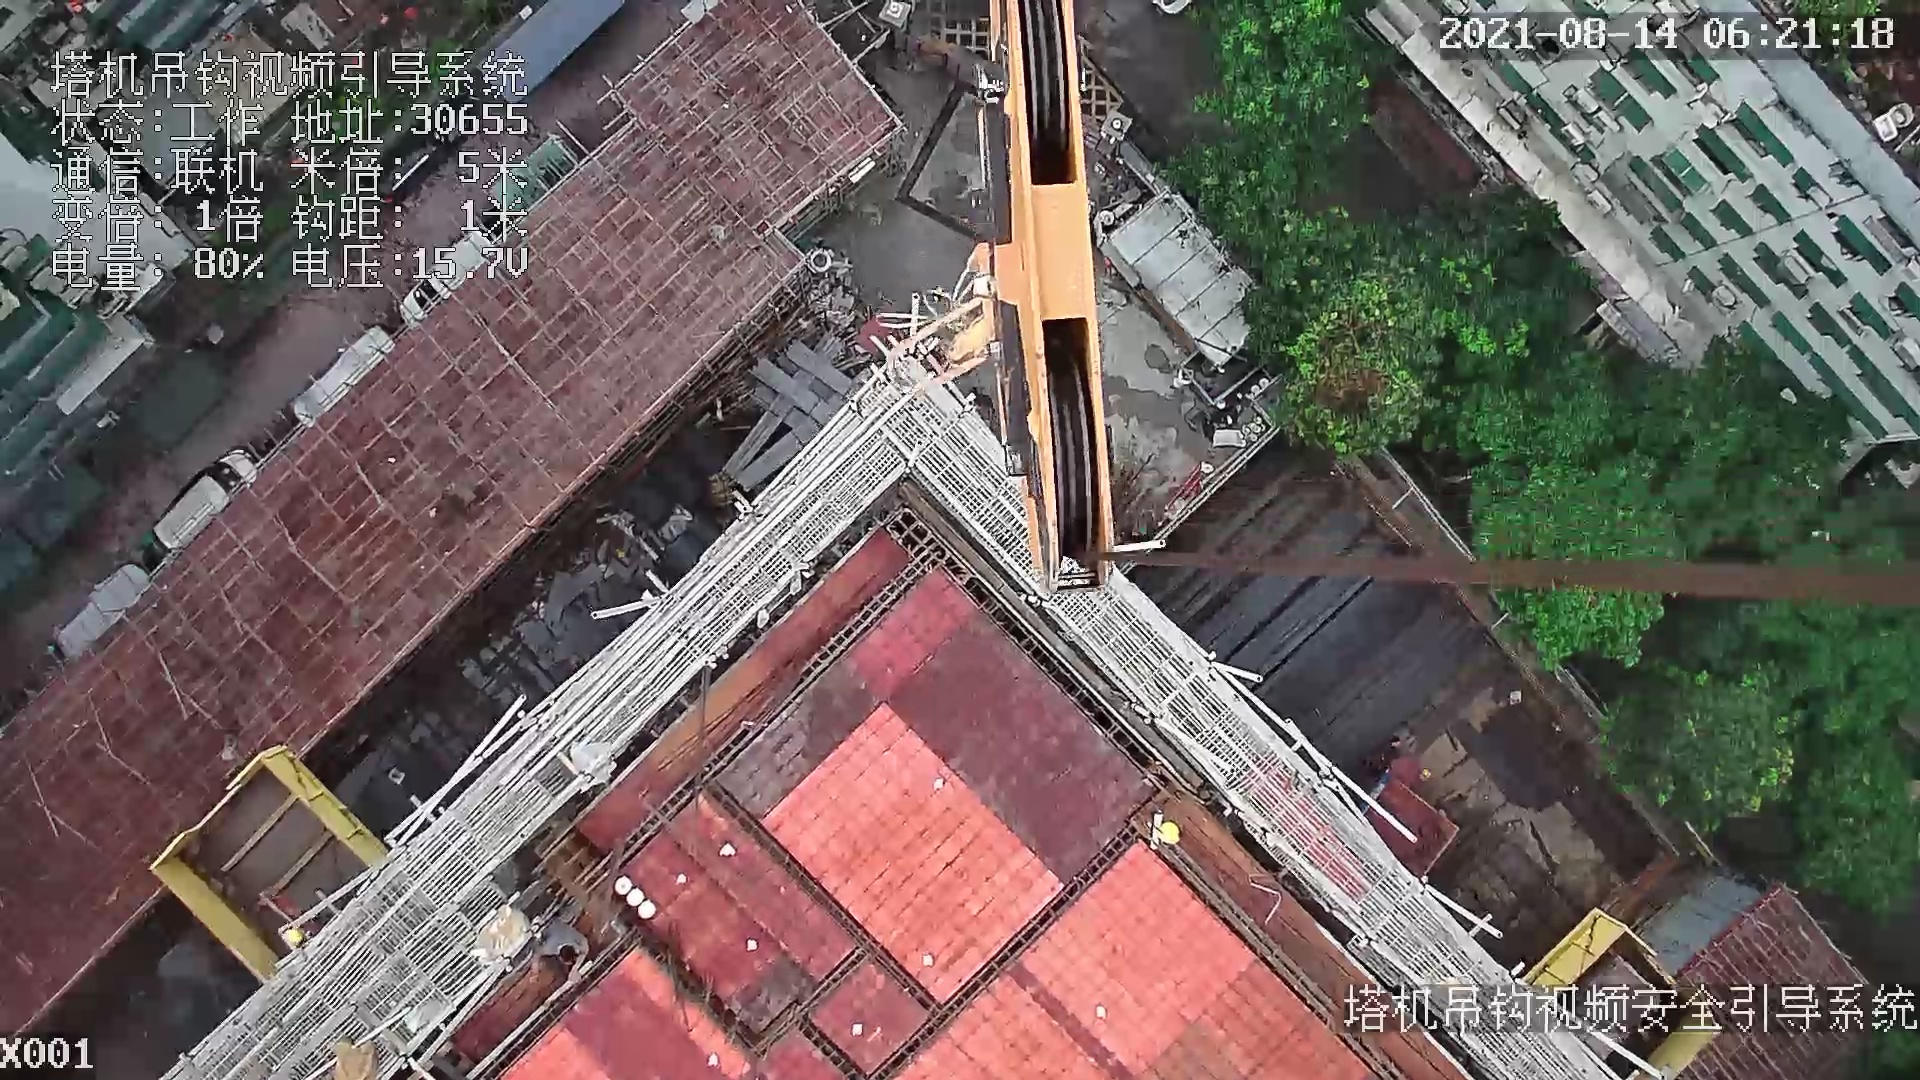hook: (978, 1, 1118, 600)
